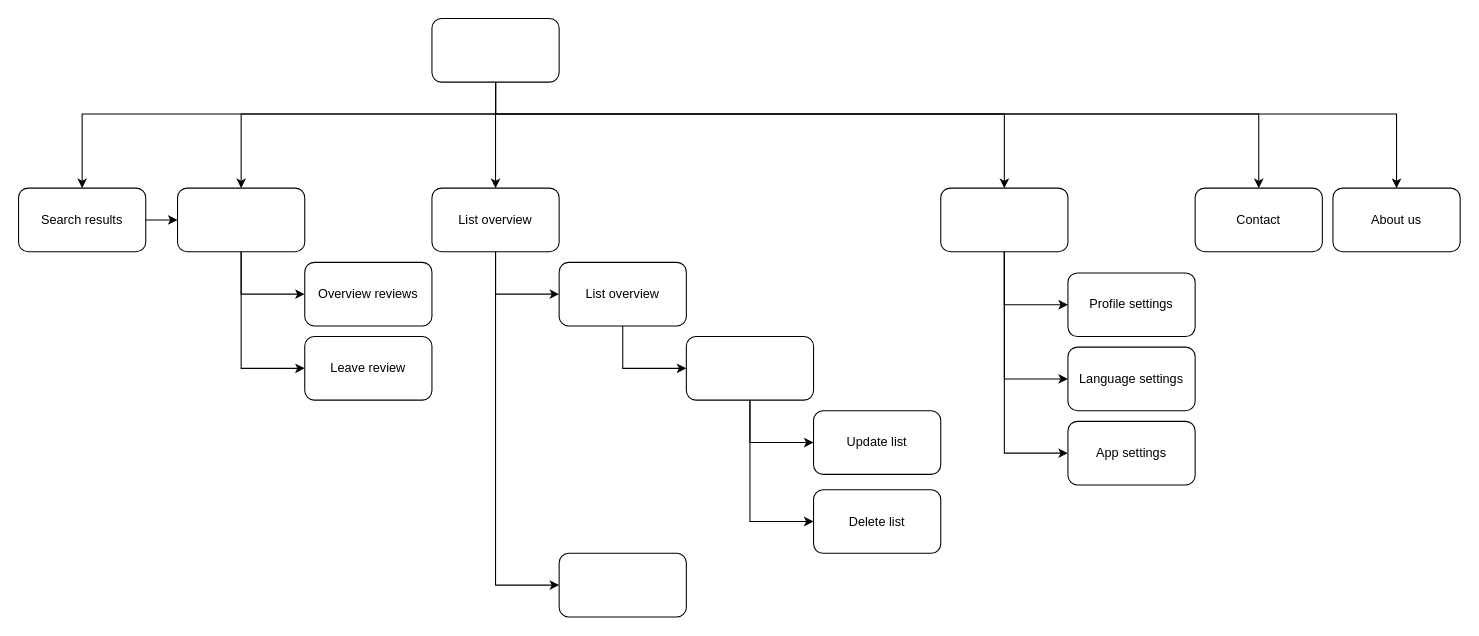
The diagram is 1479 pixels wide and 636 high, and some of its shapes have lost their labels. The box of each missing label's shape, as (x1, y1, x2, y2) in pixels:
Home: (431, 17, 559, 82)
Make new list: (558, 552, 686, 617)
Movie details: (176, 187, 305, 252)
Settings: (940, 187, 1068, 252)
View list: (685, 335, 814, 400)
